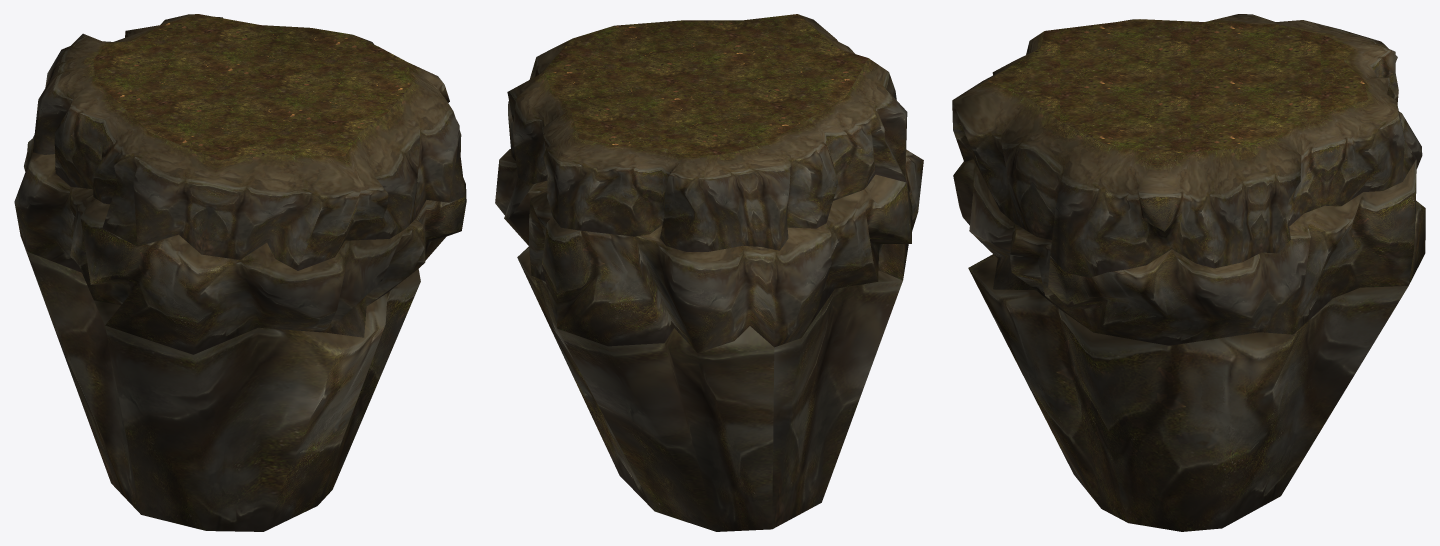
Rendered from C_bridgestart005.fbx.
3 views of the same model, side by side, from view 1: azimuth 30°, elevation 25°; view 2: azimuth 150°, elevation 25°; view 3: azimuth 270°, elevation 25° (orthographic). The views are drawn at different scales.
Parts seen in each view (by area): view 1: C_bridgestart005; view 2: C_bridgestart005; view 3: C_bridgestart005.
Part boxes in pixels (bbox=[...]): C_bridgestart005: bbox=[14, 14, 466, 531]; C_bridgestart005: bbox=[495, 14, 923, 531]; C_bridgestart005: bbox=[952, 14, 1425, 531].
Bounding box in the file's own units: 1830 × 1862 × 1932.
